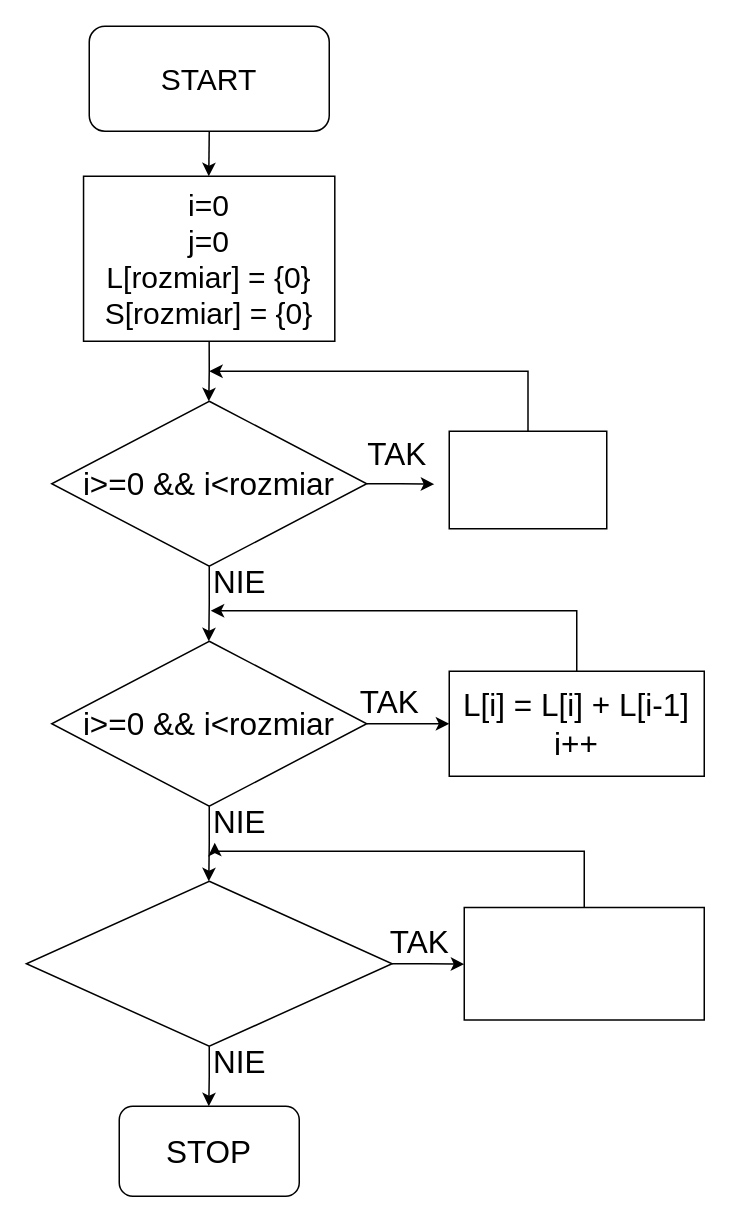
The diagram is 731 pixels wide and 1223 high, and some of its shapes have lost their labels. Each missing label, with the centre of its shape:
"i<=rozmiar-1 && i>=0" goes at pixel 208 963.
"L[t[i]]++ i++" goes at pixel 527 479.
"S[--L[t[i]]]=t[i] --i" goes at pixel 583 963.
